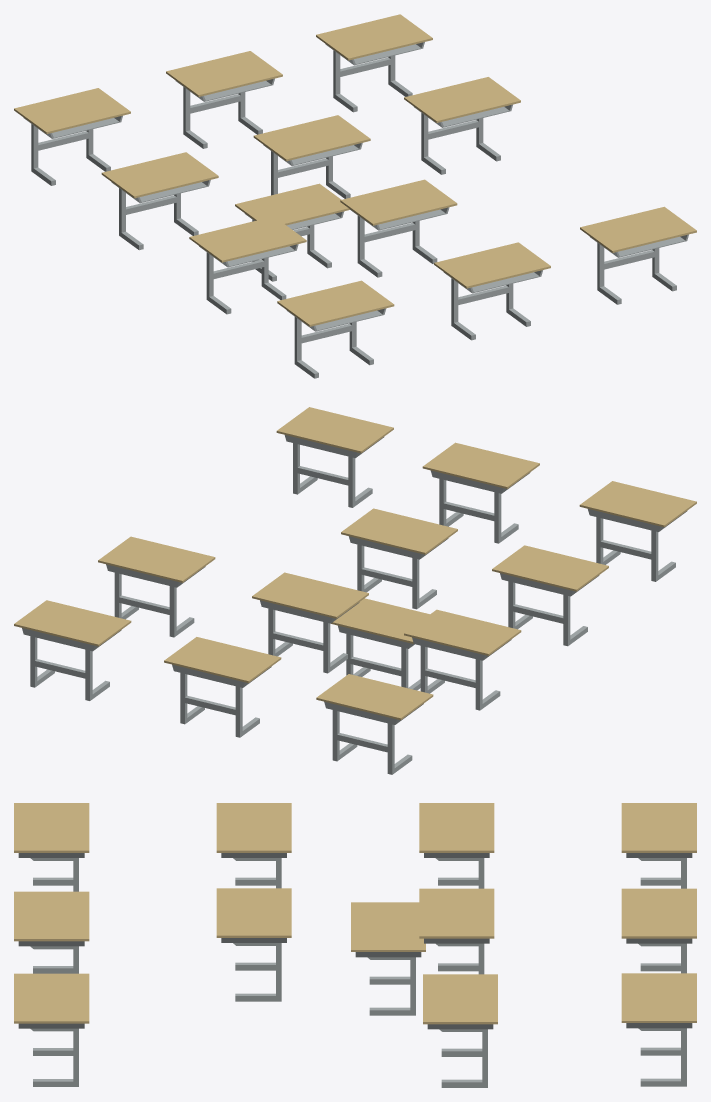
Rendered from desk.fbx.
3 renders of one model, top to bottom at view 1: azimuth 30°, elevation 25°; view 2: azimuth 150°, elevation 25°; view 3: azimuth 270°, elevation 25°, orthographic. The views are drawn at different scales.
Visible parts, largest first — view 1: pCube230, pCube226, pCube233, pCube227, pCube231, pCube228, pCube235, pCube7, pCube232, pCube225, pCube229, pCube234; view 2: pCube7, pCube228, pCube232, pCube225, pCube229, pCube226, pCube235, pCube227, pCube231, pCube230, pCube233, pCube234; view 3: pCube232, pCube230, pCube233, pCube235, pCube234, pCube229, pCube228, pCube225, pCube227, pCube7, pCube231, pCube226.
Part boxes in pixels (<box>): pCube230: <box>340,179,457,277</box>; pCube226: <box>189,216,306,314</box>; pCube233: <box>404,77,520,174</box>; pCube227: <box>277,280,394,378</box>; pCube231: <box>434,242,550,340</box>; pCube228: <box>166,51,282,148</box>; pCube235: <box>580,206,696,304</box>; pCube7: <box>14,88,130,185</box>; pCube232: <box>316,14,432,112</box>; pCube225: <box>101,152,218,250</box>; pCube229: <box>253,115,370,198</box>; pCube234: <box>235,183,349,281</box>; pCube7: <box>316,674,433,774</box>; pCube228: <box>164,637,281,737</box>; pCube232: <box>14,600,131,700</box>; pCube225: <box>404,609,521,710</box>; pCube229: <box>252,572,368,673</box>; pCube226: <box>492,545,608,646</box>; pCube235: <box>276,407,393,507</box>; pCube227: <box>579,481,696,581</box>; pCube231: <box>422,442,539,543</box>; pCube230: <box>341,508,457,609</box>; pCube233: <box>98,536,215,637</box>; pCube234: <box>331,598,429,690</box>; pCube232: <box>621,973,696,1086</box>; pCube230: <box>216,888,291,1001</box>; pCube233: <box>423,974,497,1087</box>; pCube235: <box>14,973,89,1086</box>; pCube234: <box>351,902,425,1015</box>; pCube229: <box>419,888,494,974</box>; pCube228: <box>621,888,696,973</box>; pCube225: <box>419,803,494,888</box>; pCube227: <box>14,803,89,891</box>; pCube7: <box>621,803,696,888</box>; pCube231: <box>14,891,89,973</box>; pCube226: <box>216,803,291,888</box>.
Size of the model in its own units: 0.000511 by 0.000123 by 0.000674.
